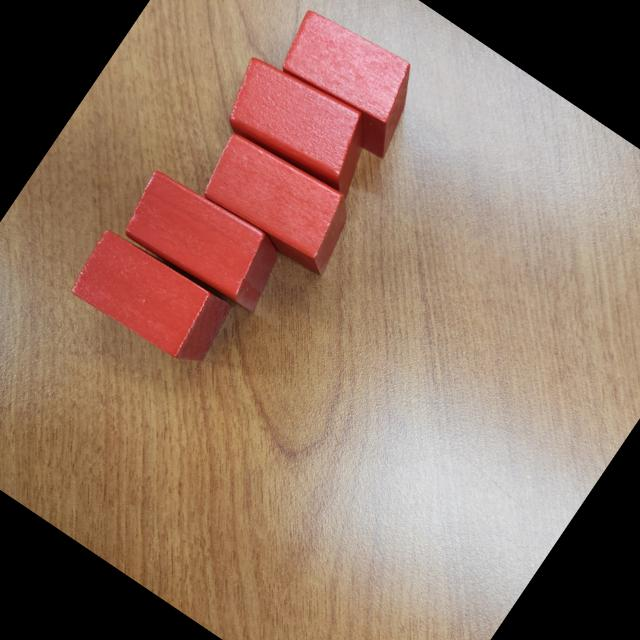red: (208, 44, 394, 208), (115, 162, 299, 323), (189, 121, 368, 282), (61, 220, 241, 380), (260, 0, 437, 162)
